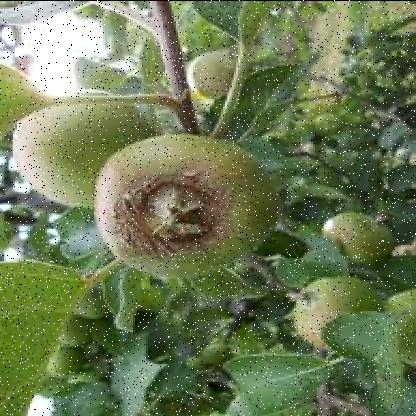apple: (13, 87, 144, 209), (288, 274, 382, 352), (320, 208, 390, 272), (176, 48, 240, 101)
damaged_apple: (92, 126, 272, 288)
